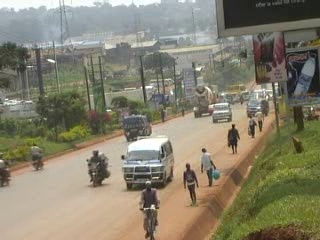Car: (205, 100, 233, 123)
Motorcycle: (84, 149, 113, 188), (28, 141, 45, 173), (0, 154, 12, 189)
